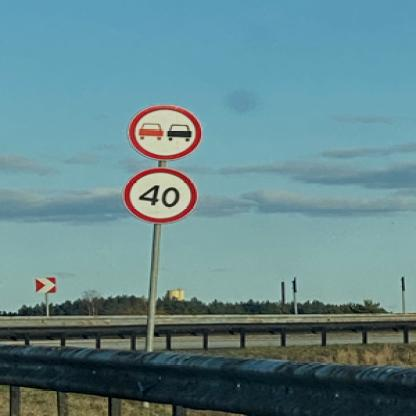speedlimit: (121, 166, 197, 224)
